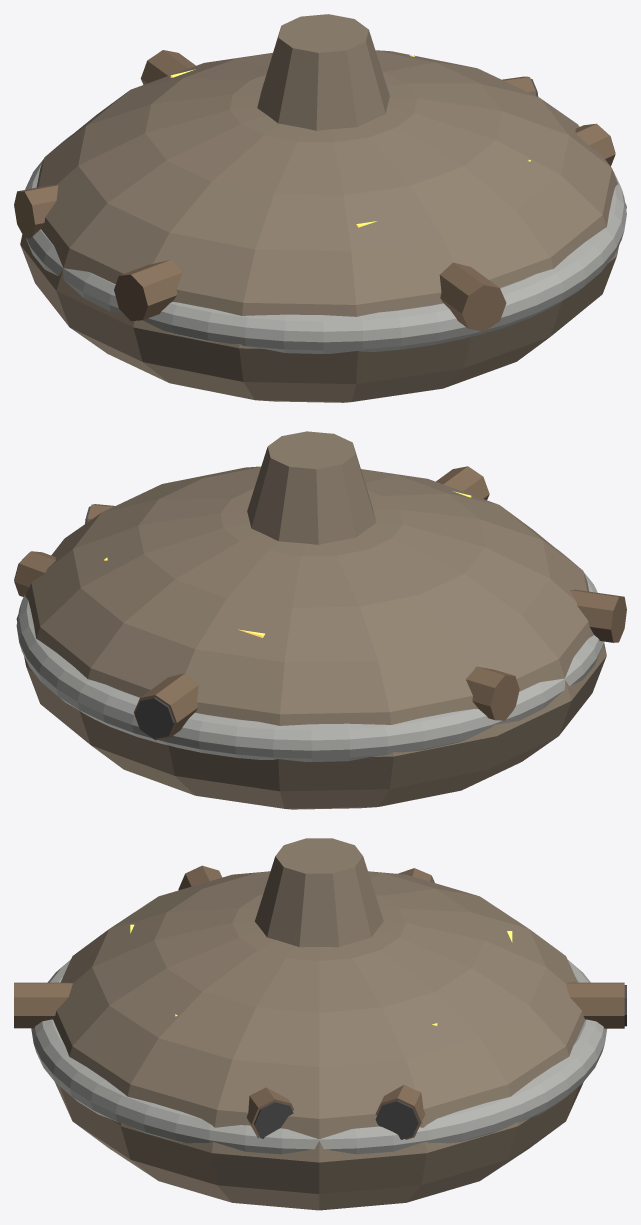
The model's file is charcoal_pit.glb.
The picture shows the model from 3 angles, top to bottom: view 1: azimuth 30°, elevation 25°; view 2: azimuth 150°, elevation 25°; view 3: azimuth 270°, elevation 25°; orthographic projection. The views are drawn at different scales.
Visible parts, largest first — view 1: Sphere, Torus, Cone, Cylinder.010, Cylinder, Cylinder.002, Cylinder.008, Cylinder.004; view 2: Sphere, Torus, Cone, Cylinder.002, Cylinder, Cylinder.008, Cylinder.009, Cylinder.006, Cylinder.010; view 3: Sphere, Torus, Cone, Cylinder.008, Cylinder.010, Cylinder.007, Cylinder.005, Cylinder.006, Cylinder.004, Cylinder.
Boxes of the visible parts, x1,y1,x2,y2 form: Sphere: (20,50,626,402); Torus: (25,135,626,353); Cone: (257,14,389,130); Cylinder.010: (439,262,506,331); Cylinder: (114,259,182,321); Cylinder.002: (14,185,58,238); Cylinder.008: (140,50,195,84); Cylinder.004: (575,123,615,166); Sphere: (16,466,606,809); Torus: (16,549,604,762); Cone: (247,431,376,544); Cylinder.002: (466,666,519,720); Cylinder: (569,589,626,642); Cylinder.008: (133,673,198,740); Cylinder.009: (134,697,174,738); Cylinder.006: (14,551,55,596); Cylinder.010: (436,466,489,500); Sphere: (53,871,585,1210); Torus: (31,959,606,1154); Cone: (254,838,383,947); Cylinder.008: (565,982,624,1028); Cylinder.010: (14,982,72,1028); Cylinder.007: (375,1100,418,1139); Cylinder.005: (254,1101,293,1138); Cylinder.006: (375,1084,425,1139); Cylinder.004: (246,1087,293,1138); Cylinder: (178,865,222,890).
Size of the model in its own units: 2.4 by 1.37 by 2.51.
